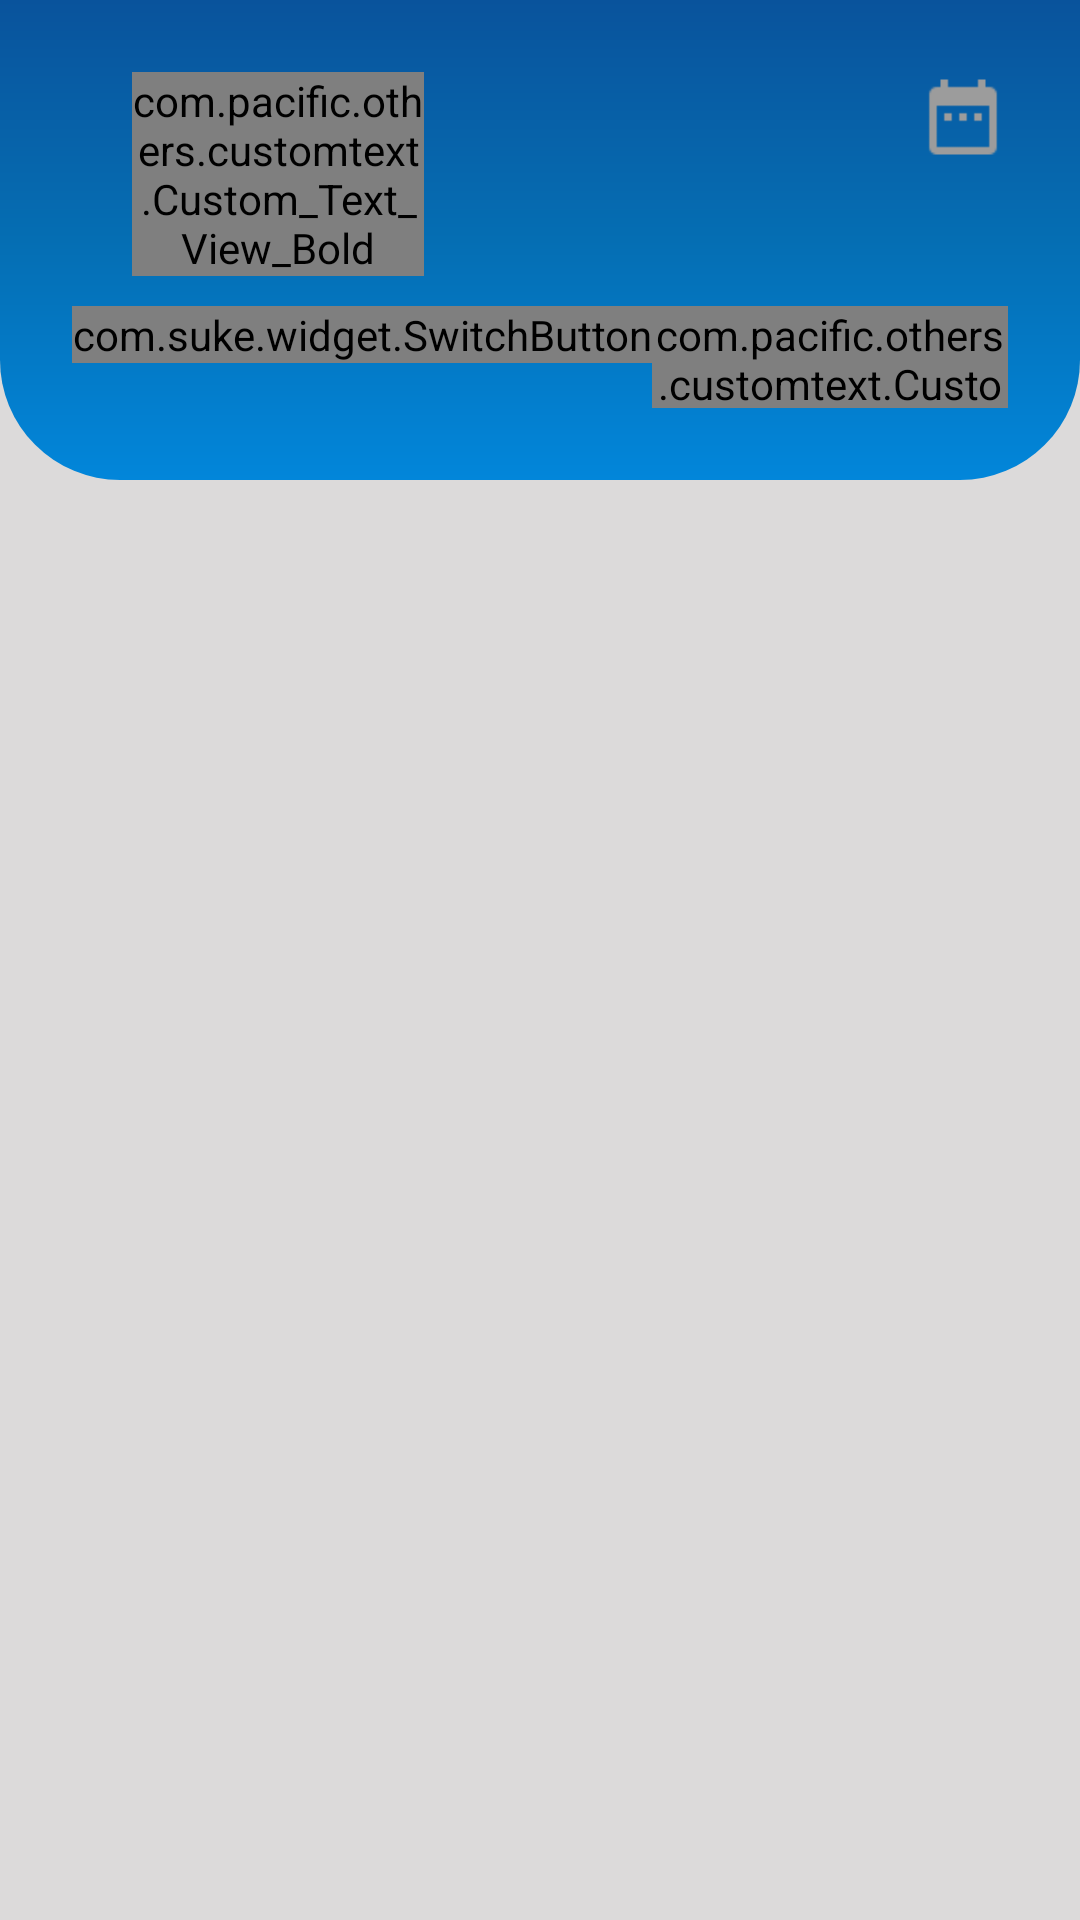

Icon click points for this 1080 x 1920 phone screenshot, format (x=x, y=y):
calendar: (x=963, y=117)
